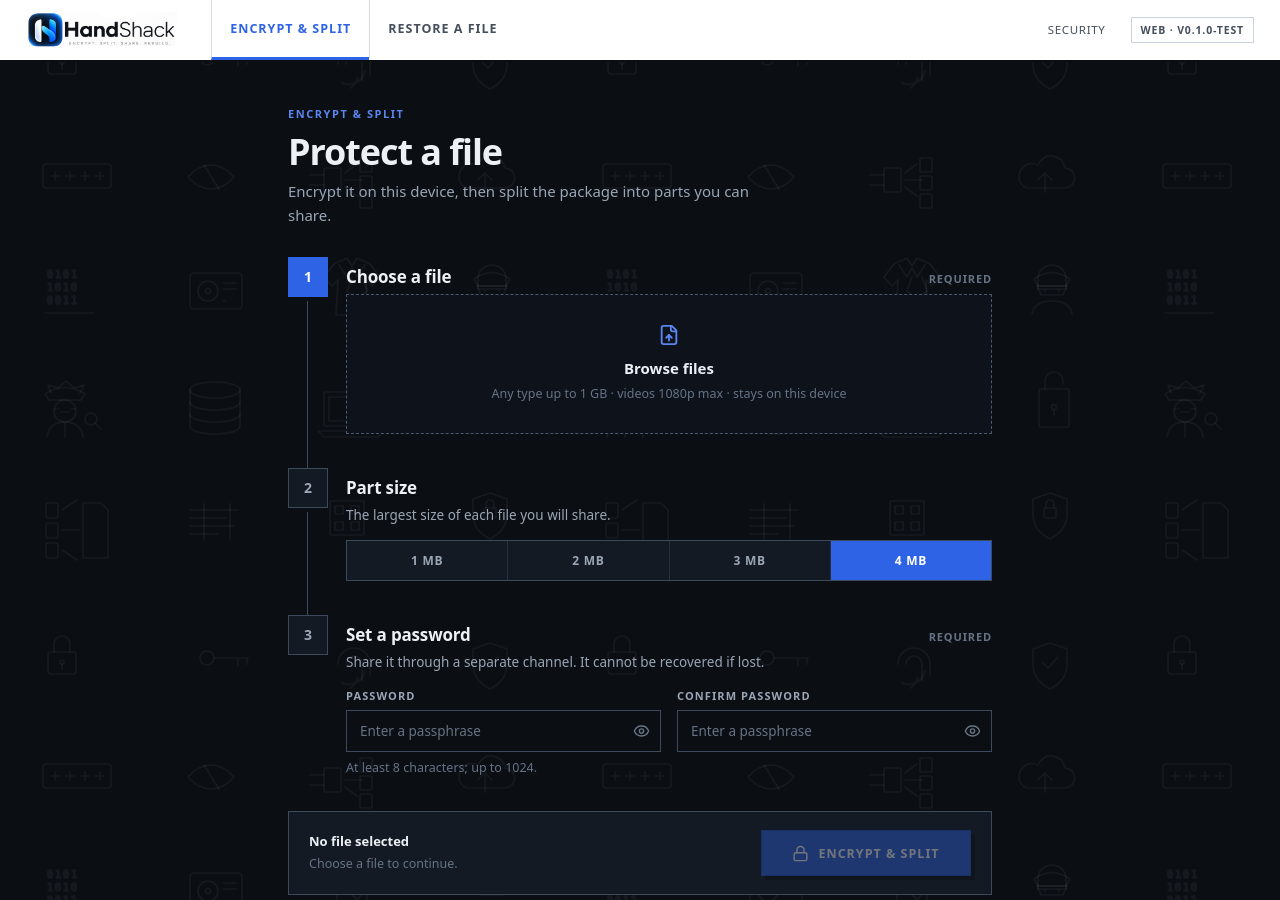
Encrypt & Split page › requires a password ≥8 chars before running
Click the button "Browse files" at (669, 364), box [346,294,992,434]
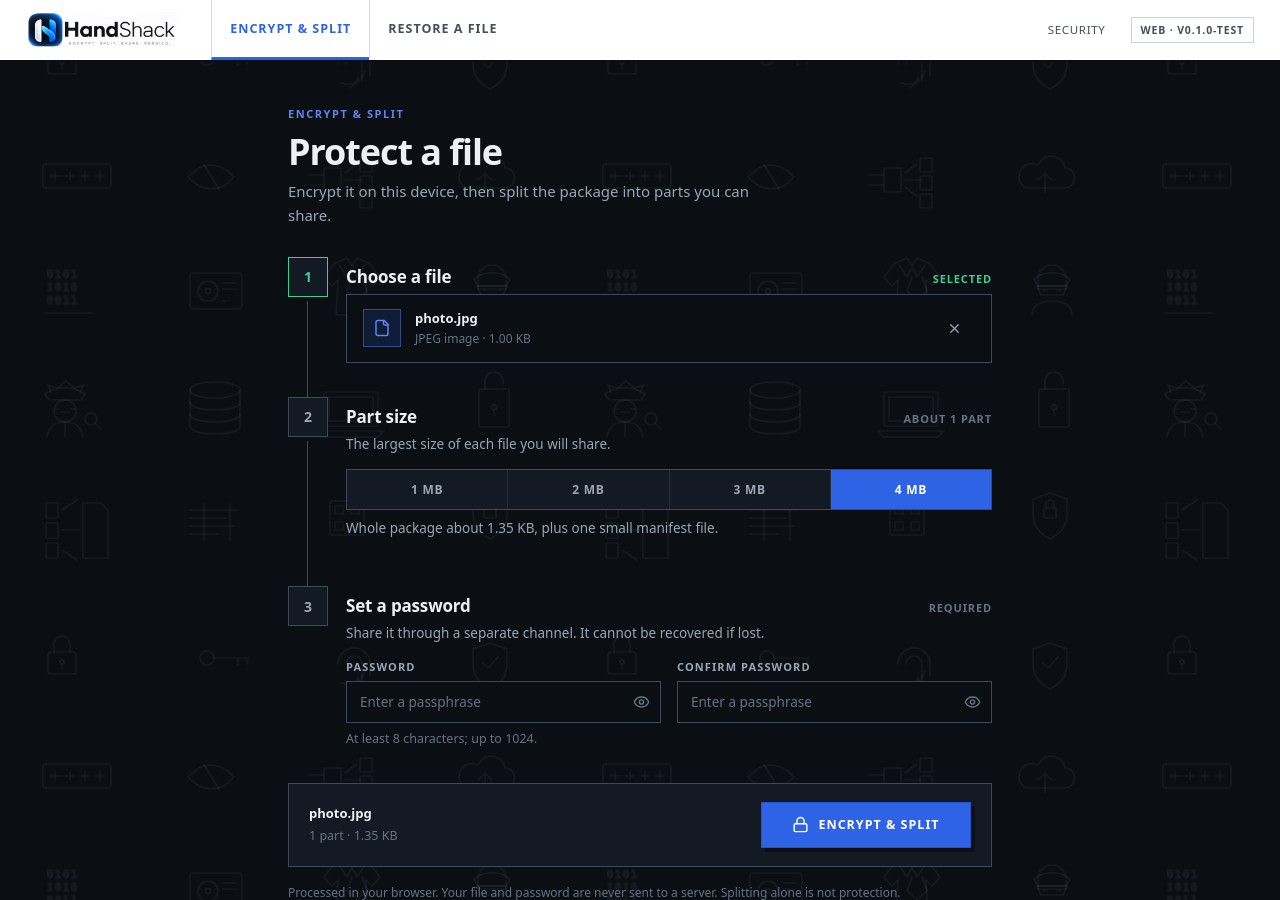
Click the button "Encrypt & split" at (866, 825), box [761,802,971,848]
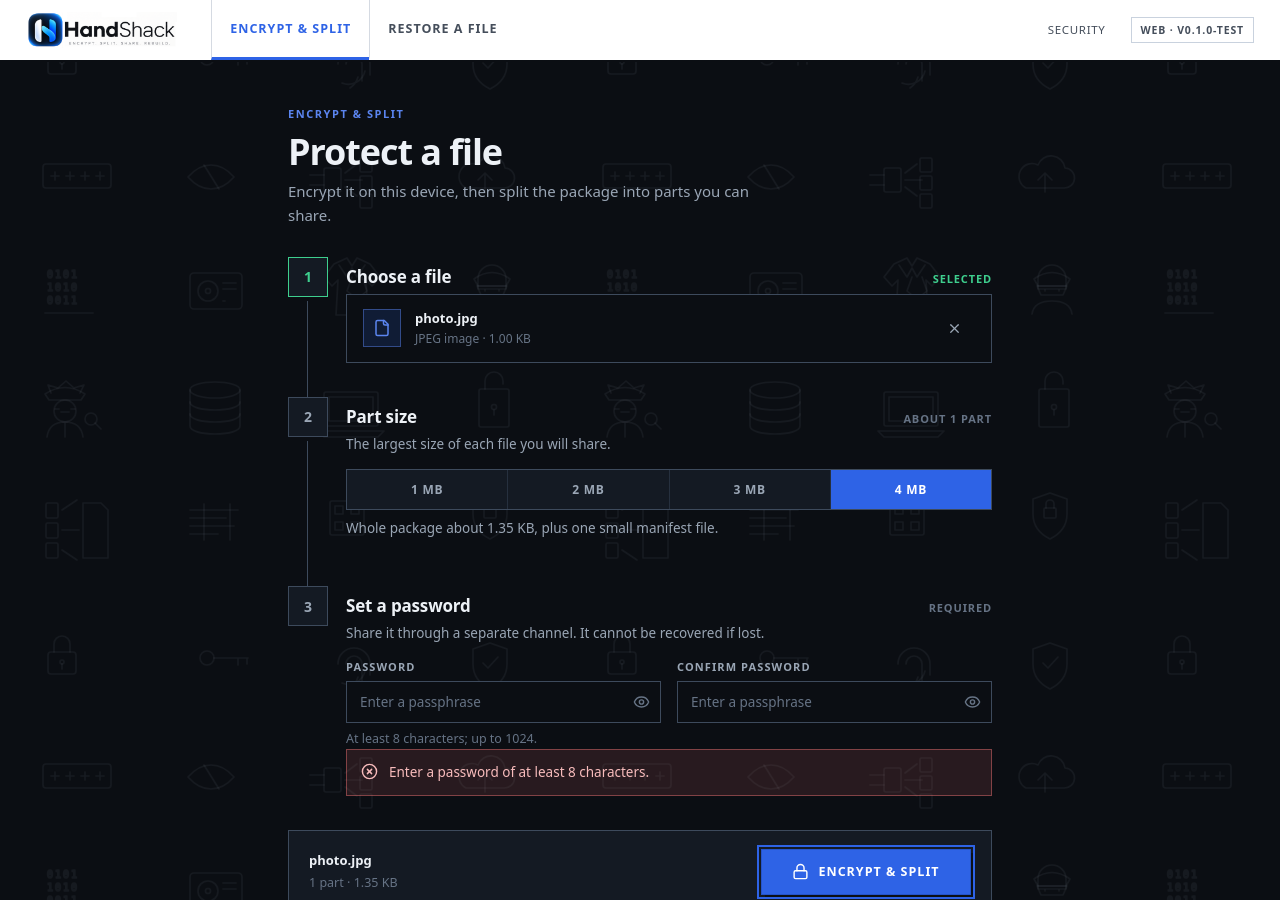
Result: the text "Enter a password of at least 8 characters." is shown at [389,763,649,781]
